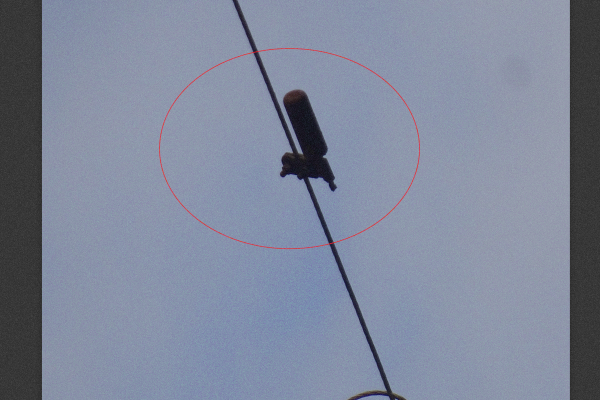damper_defect: (270, 85, 344, 198)
